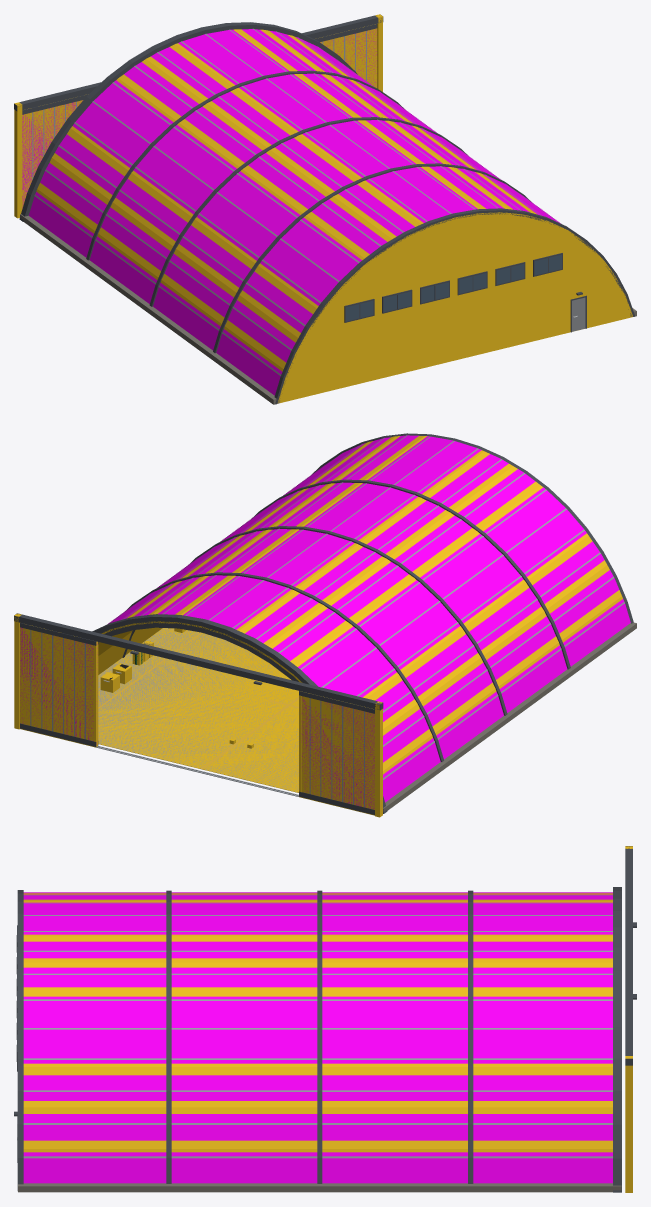
Rendered from lm_hangar.glb.
The picture shows the model from 3 angles, top to bottom: view 1: azimuth 30°, elevation 25°; view 2: azimuth 150°, elevation 25°; view 3: azimuth 270°, elevation 25°; orthographic projection. The views are drawn at different scales.
Parts seen in each view (by area): view 1: lm_hangar__shell, lm_hangar__col; view 2: lm_hangar__shell, lm_hangar__col; view 3: lm_hangar__shell, lm_hangar__col.
Boxes of the visible parts, x1,y1,x2,y2 form: lm_hangar__shell: (14,14,636,404); lm_hangar__col: (14,14,632,403); lm_hangar__shell: (14,433,636,815); lm_hangar__col: (14,436,622,817); lm_hangar__shell: (14,846,636,1192); lm_hangar__col: (23,846,632,1192).
Size of the model in its own units: 26.7 by 10.28 by 33.04.
2 materials, 1 textured.
